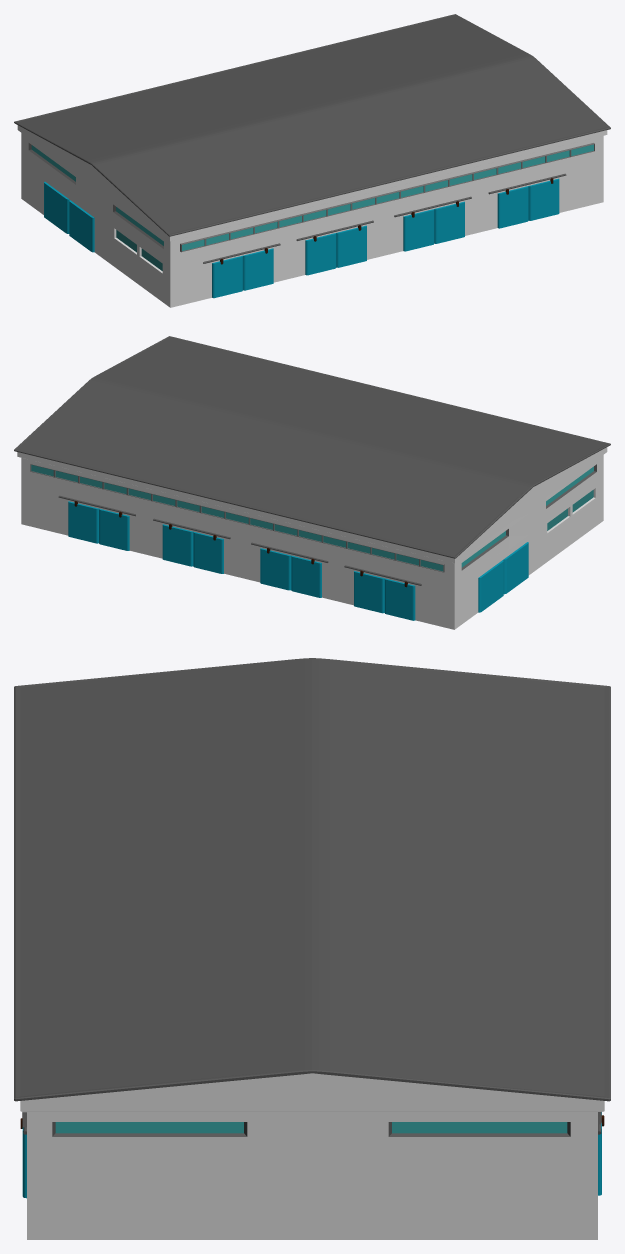
File: bjck2.fbx
3 views of the same model, one above another, from view 1: azimuth 30°, elevation 25°; view 2: azimuth 150°, elevation 25°; view 3: azimuth 270°, elevation 25° (orthographic). The views are drawn at different scales.
Visible parts, largest first — view 1: pCube14; view 2: pCube14; view 3: pCube14.
Part boxes in pixels (left/top/right/bottom): pCube14: left=14, top=14, right=610, bottom=307; pCube14: left=14, top=336, right=610, bottom=629; pCube14: left=14, top=658, right=610, bottom=1239.
Size of the model in its own units: 21.1 by 4.13 by 12.89.
